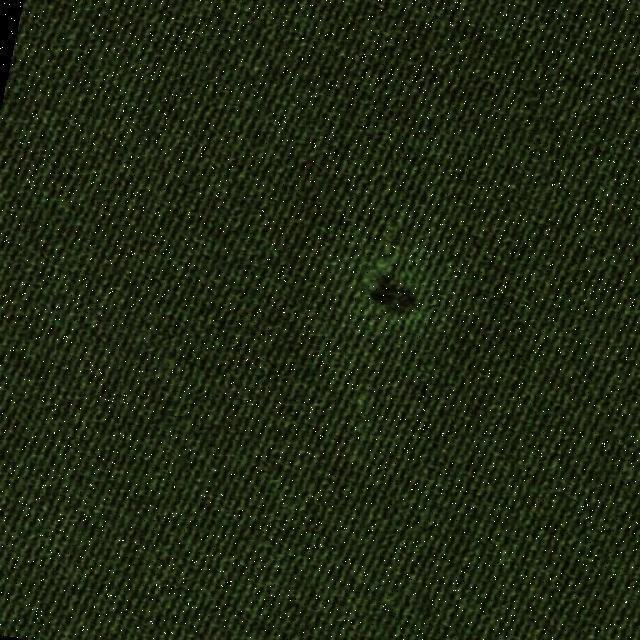other: (320, 228, 462, 362)
